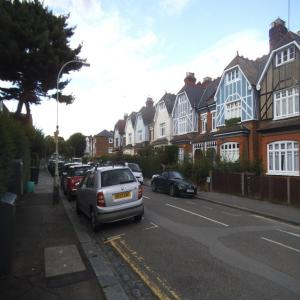Vehicle-registration-plate: (114, 193, 131, 200), (188, 191, 195, 194)
